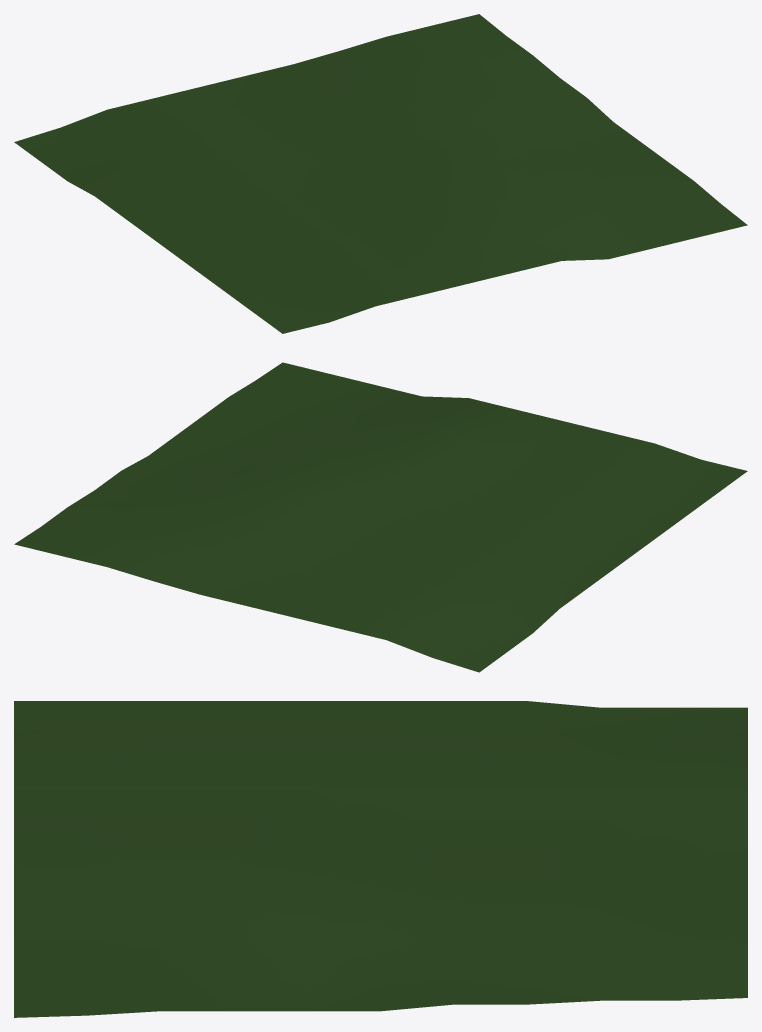
The picture shows the model from 3 angles, top to bottom: view 1: azimuth 30°, elevation 25°; view 2: azimuth 150°, elevation 25°; view 3: azimuth 270°, elevation 25°; orthographic projection. The views are drawn at different scales.
Visible parts, largest first — view 1: TerrainModel.062; view 2: TerrainModel.062; view 3: TerrainModel.062.
Part boxes in pixels (x1,y1,x2,y2): TerrainModel.062: (14, 14, 747, 333); TerrainModel.062: (14, 362, 747, 672); TerrainModel.062: (14, 701, 747, 1017).
Size of the model in its own units: 19608 by 588 by 19608.
